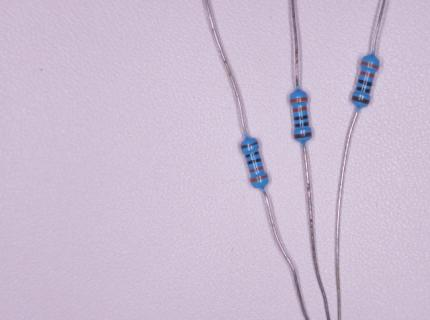Black band: (245, 151, 259, 159), (358, 79, 372, 87), (247, 158, 262, 165), (356, 87, 371, 93), (294, 115, 308, 121), (295, 122, 309, 128)
Brown band: (352, 96, 369, 104), (294, 132, 312, 139), (241, 142, 258, 149)
Orange band: (250, 174, 269, 183), (360, 61, 379, 69), (290, 97, 308, 103), (293, 106, 307, 113), (360, 71, 374, 78), (250, 166, 264, 173)
